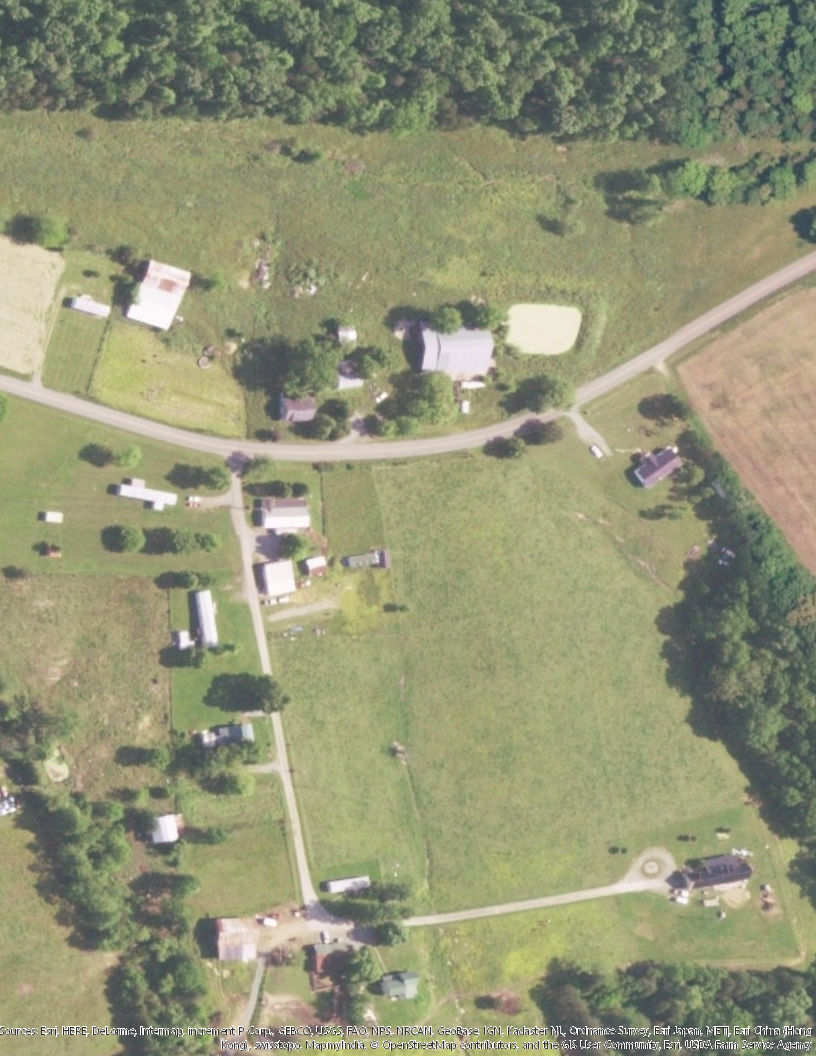cafo: (398, 311, 514, 390), (111, 250, 198, 332)
